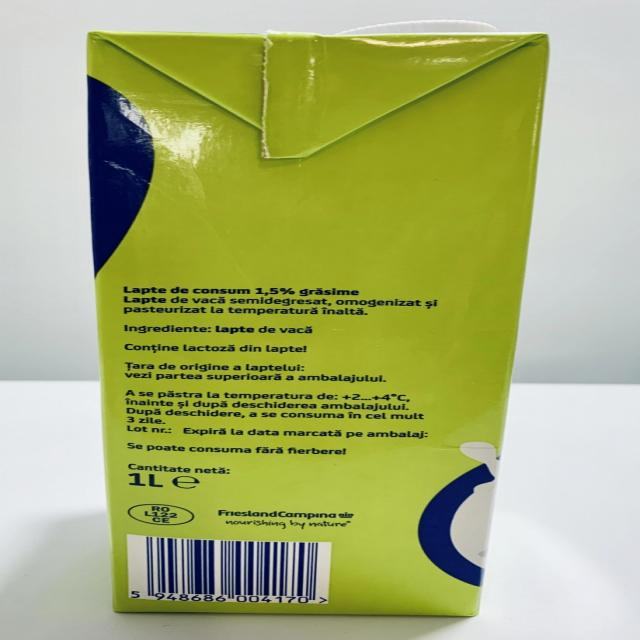milk: (82, 21, 548, 616)
